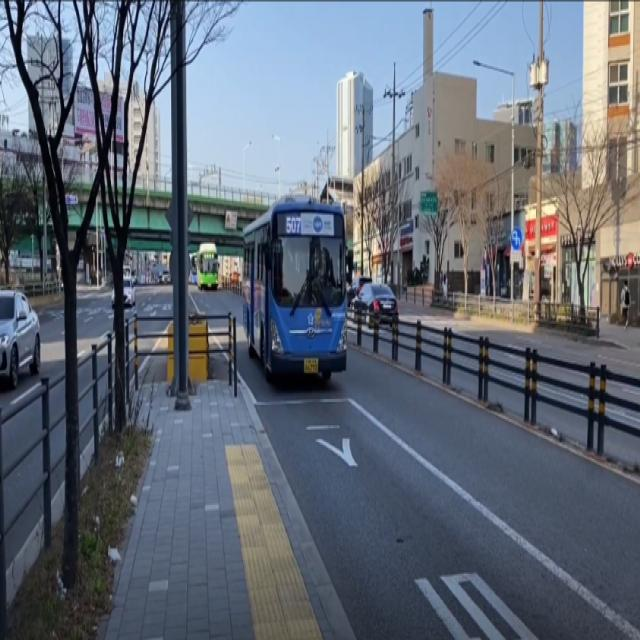bus-number: (286, 216, 301, 236), (204, 252, 214, 260)
